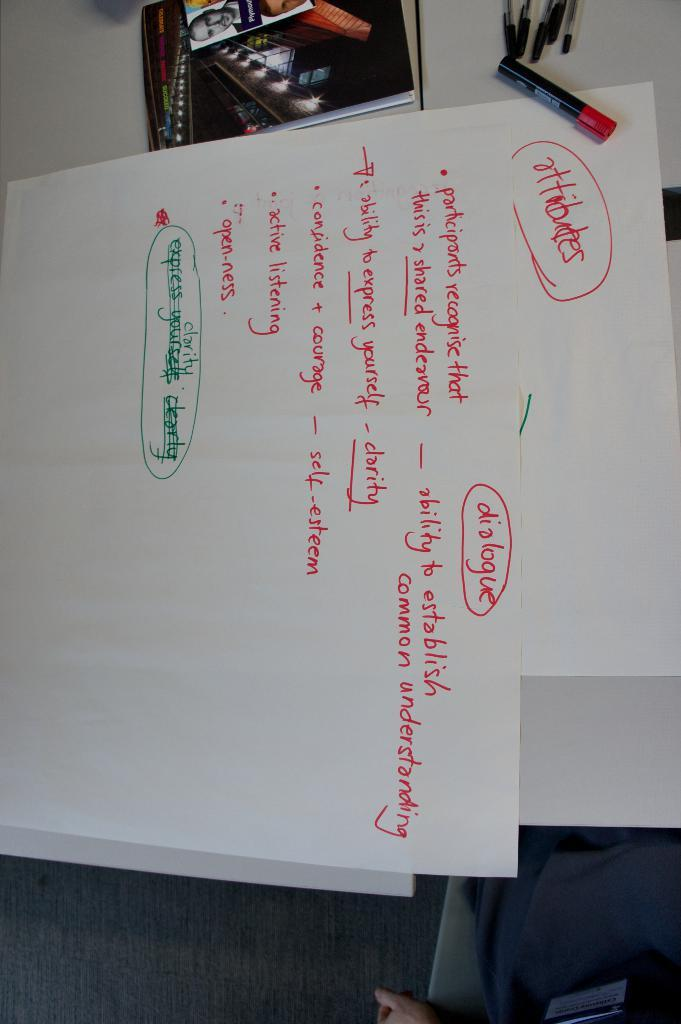Book: (139, 0, 421, 151)
